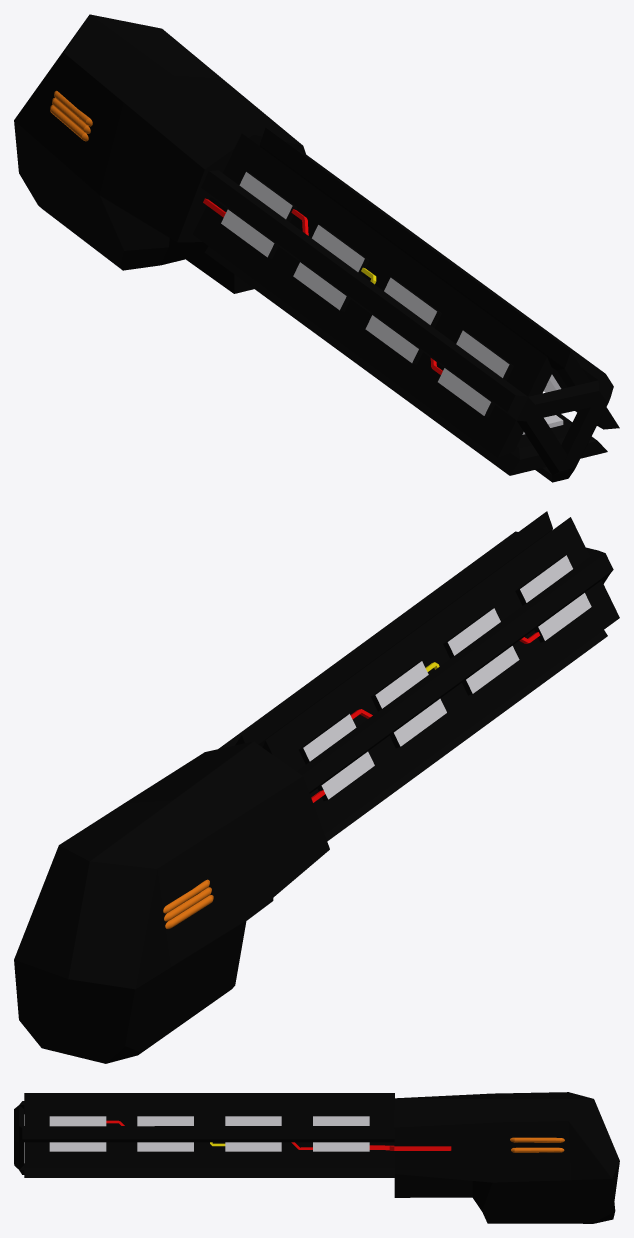
Rendered from railgun.fbx.
3 views of the same model, one above another, from view 1: azimuth 30°, elevation 25°; view 2: azimuth 150°, elevation 25°; view 3: azimuth 270°, elevation 25° (orthographic). The views are drawn at different scales.
Parts seen in each view (by area): view 1: Plane, Cylinder; view 2: Cylinder, Plane; view 3: Plane, Cylinder, Cylinder.001.
Part boxes in pixels (x1,y1,x2,y2): Plane: (193,127,619,482); Cylinder: (14,14,305,293); Cylinder: (14,741,329,1063); Plane: (218,511,619,841); Plane: (14,1093,394,1177); Cylinder: (369,1092,619,1223); Cylinder.001: (510,1137,564,1152).
Bounding box in the file's own units: 275 × 328 × 1588.
